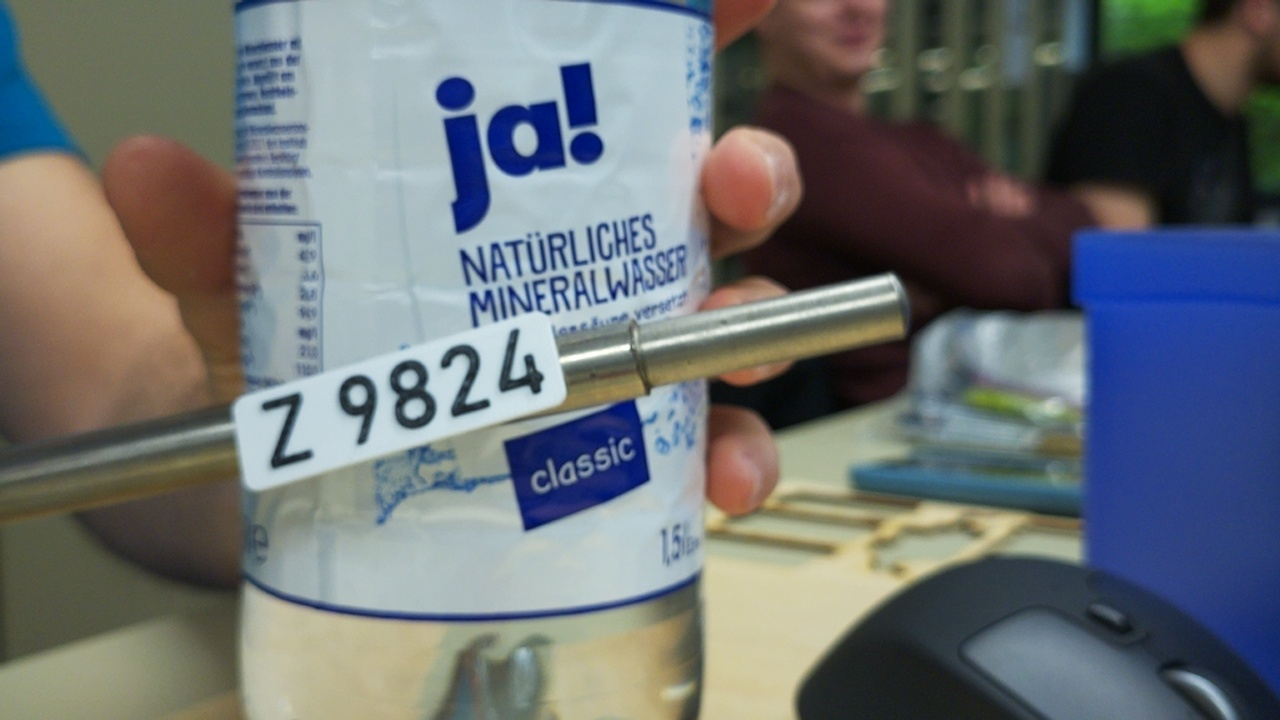license_plate: (228, 307, 572, 494)
